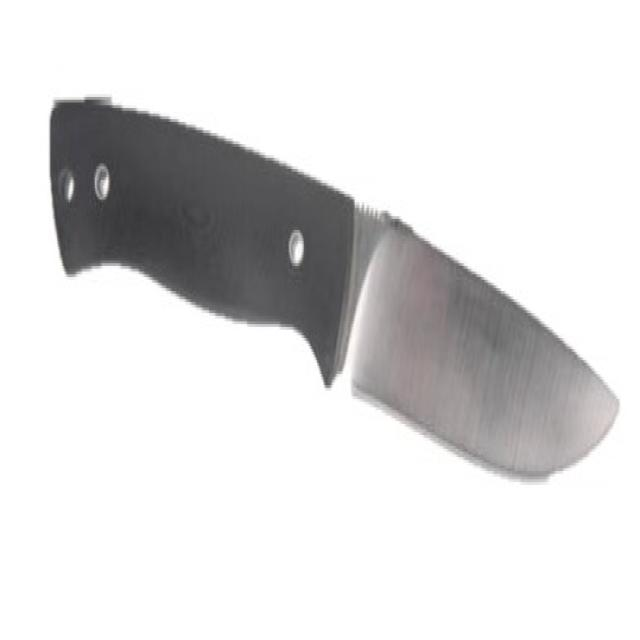knife: (48, 70, 626, 501)
